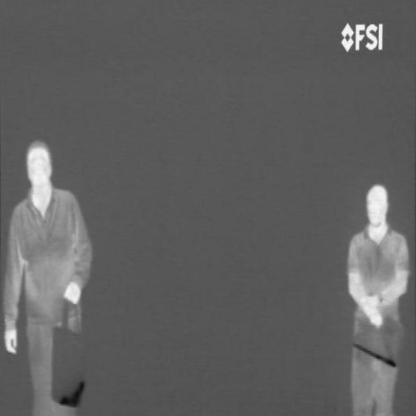weapon: (58, 378, 86, 408)
